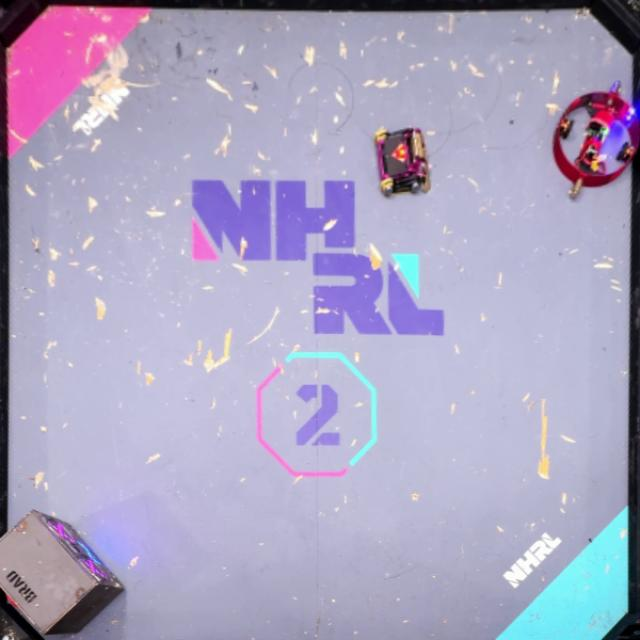housebot: (0, 510, 125, 636)
robot: (553, 80, 640, 200), (374, 126, 431, 196)
